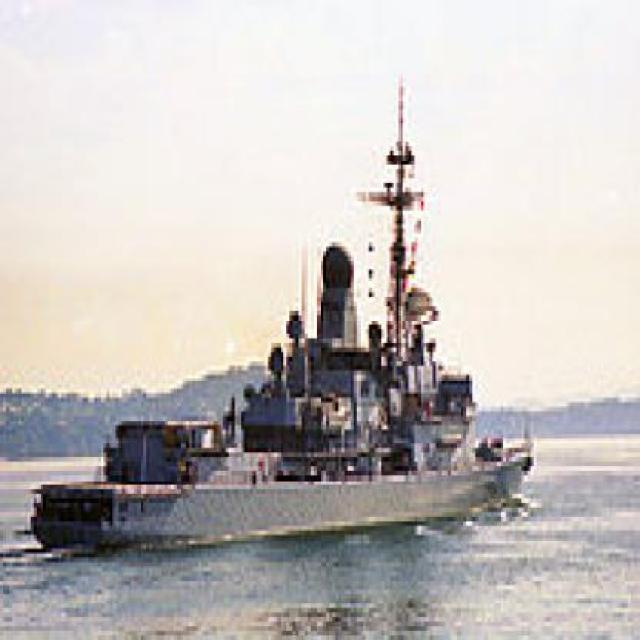warship2: (25, 42, 559, 563)
